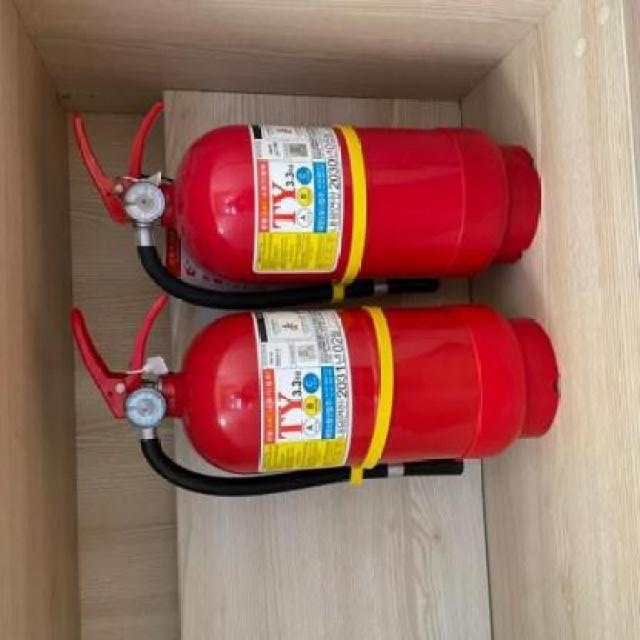fire extinguisher: (71, 296, 560, 498), (74, 103, 540, 312)
